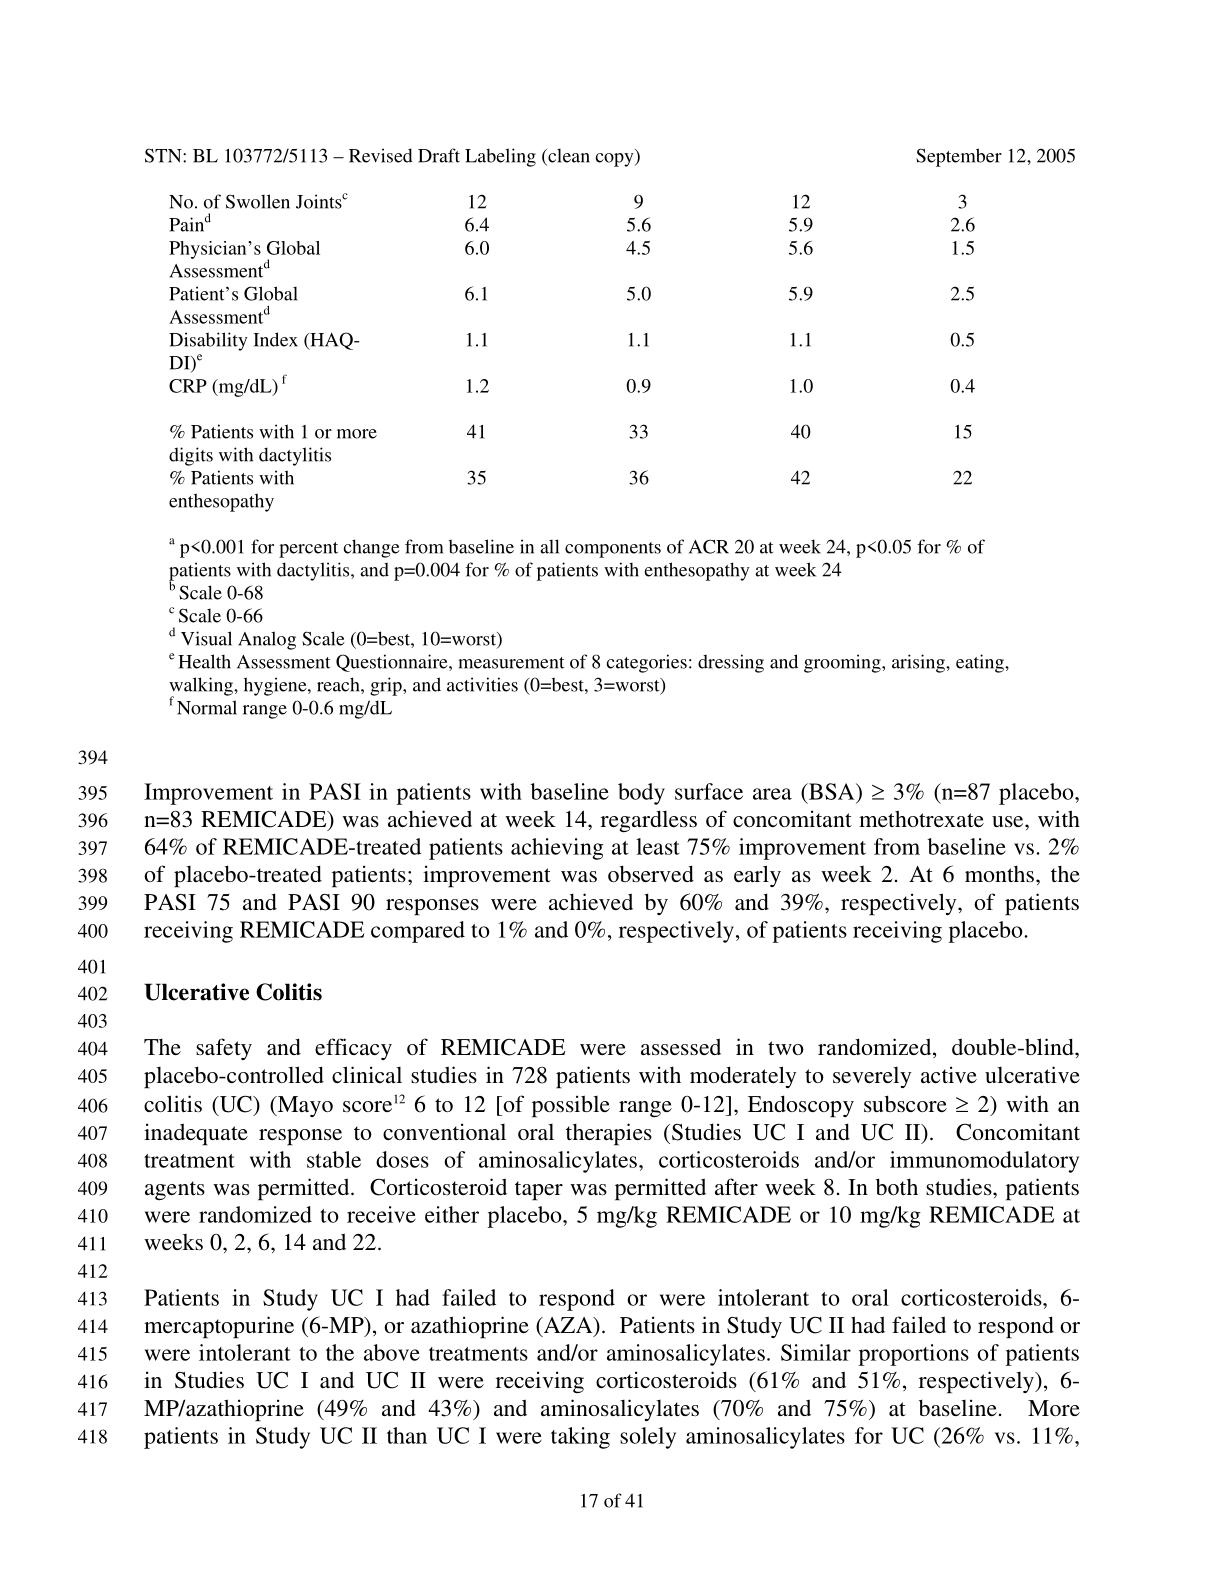nolines: (165, 185, 980, 514)
